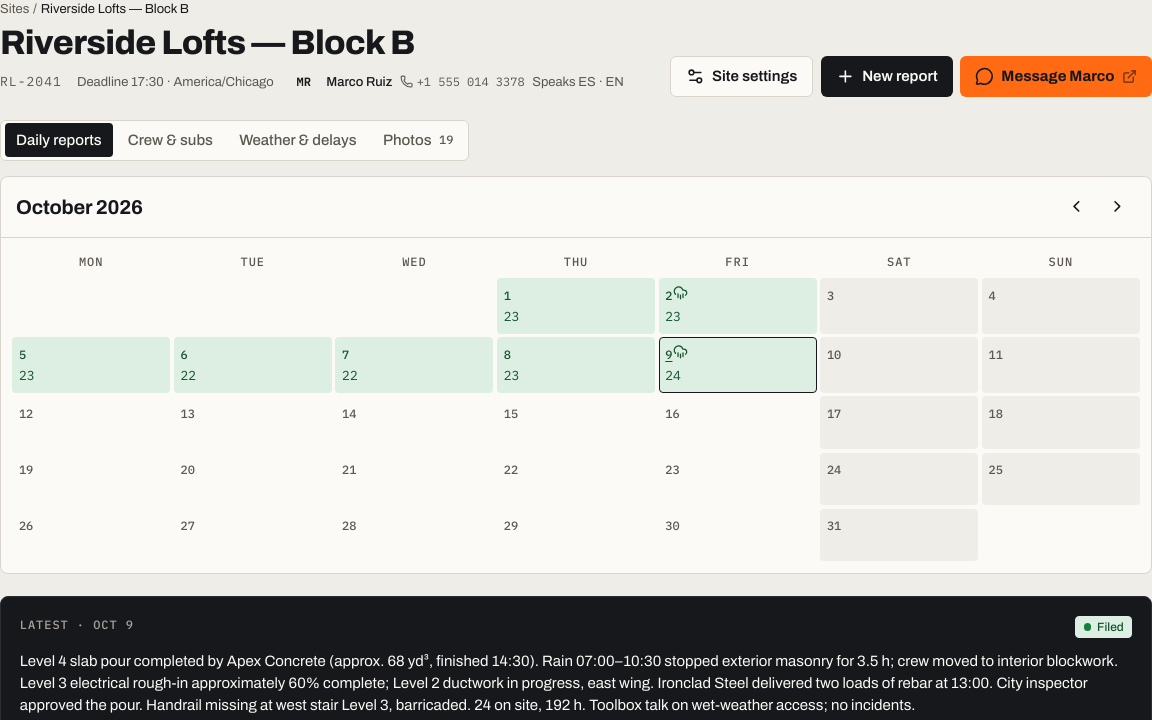
it: SiteDetailPage (Riverside Lofts — Block B, Fri Oct 9 2026) › offers Pause site to admins only (RLS lets only admins update a site)
The width and height of the screenshot is (1152, 720).
Expected: the heading "Riverside Lofts — Block B" is shown, [0,24,415,60]
Click the button "Site settings". click: (742,76)
box: [670,56,813,97]
(page scrolled)
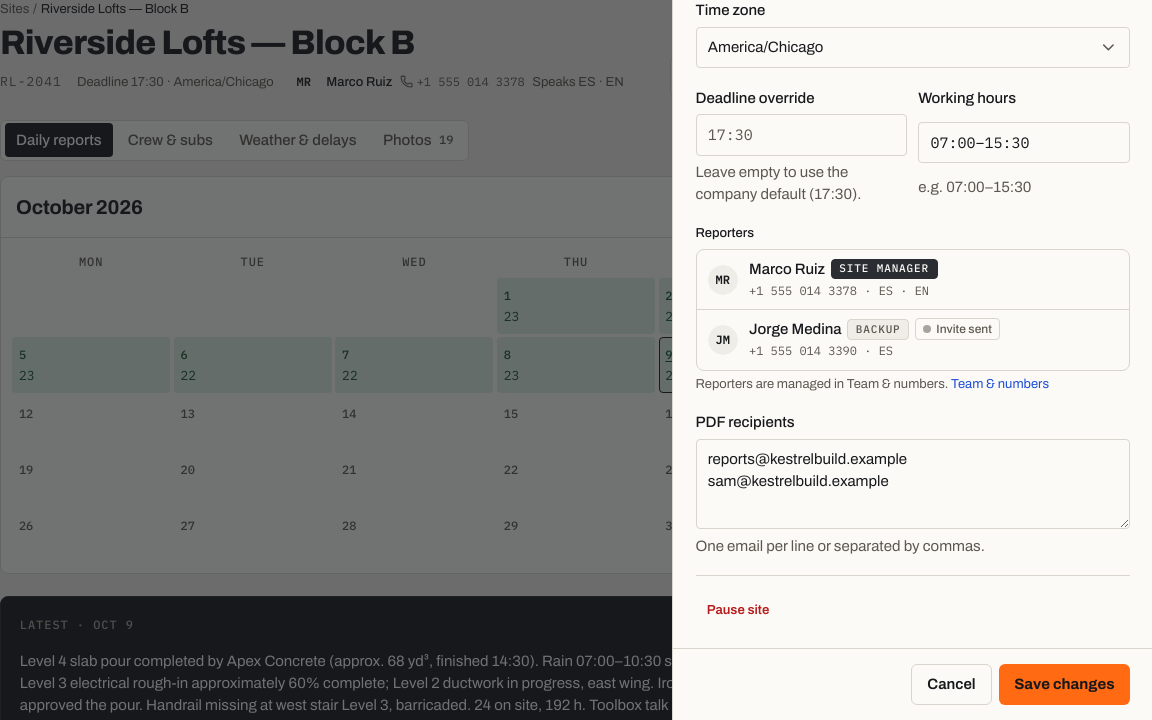
Now the button "Pause site" is shown, box [696,591,780,629]
